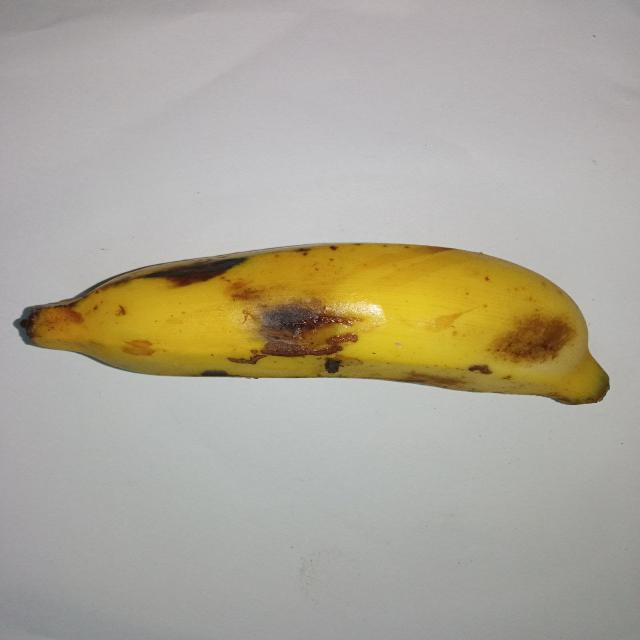fresh_banana: (0, 243, 613, 409)
